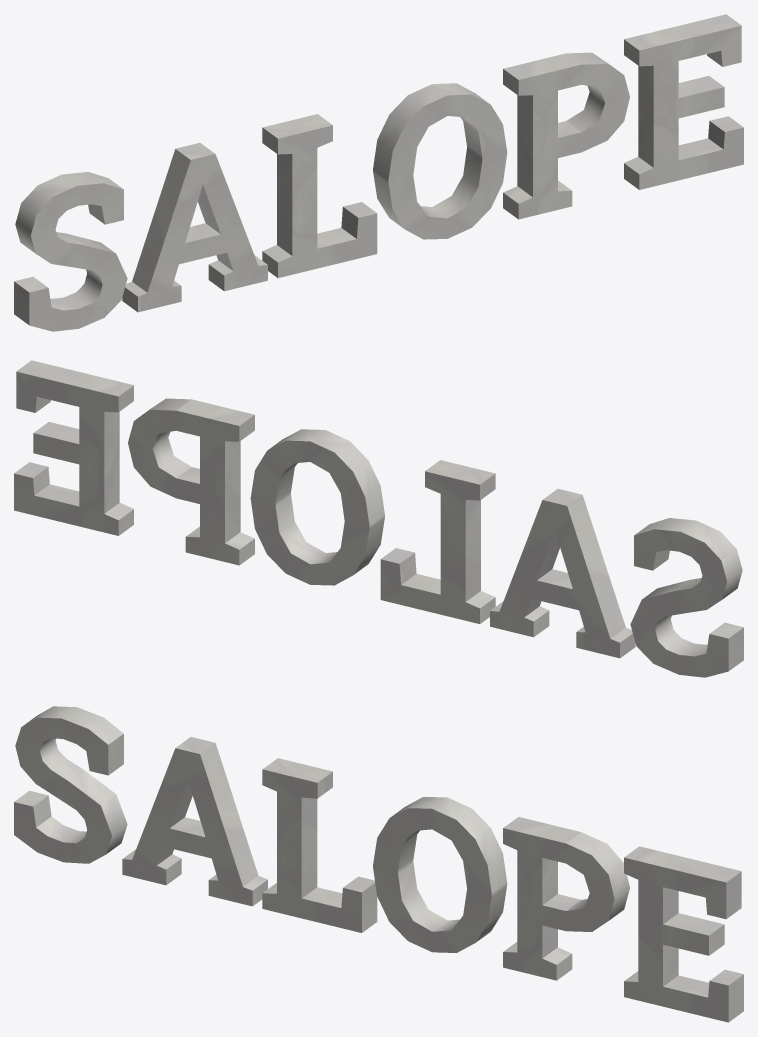
File: salope.glb
3 renders of one model, top to bottom at view 1: azimuth 30°, elevation 25°; view 2: azimuth 150°, elevation 25°; view 3: azimuth 330°, elevation 25°, orthographic.
Visible parts, largest first — view 1: Salope; view 2: Salope; view 3: Salope.
Part boxes in pixels (x1=…): Salope: x1=14, y1=14, x2=743, y2=331; Salope: x1=14, y1=360, x2=743, y2=677; Salope: x1=14, y1=706, x2=743, y2=1022.
Bounding box in the file's own units: 6.1 × 1.17 × 0.2288.
Materials: 1 (1 with a texture image).
